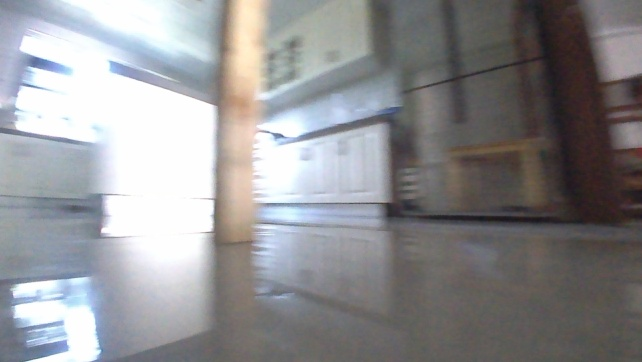cupboard: (265, 115, 395, 224)
refrigerator1: (392, 0, 568, 225)
